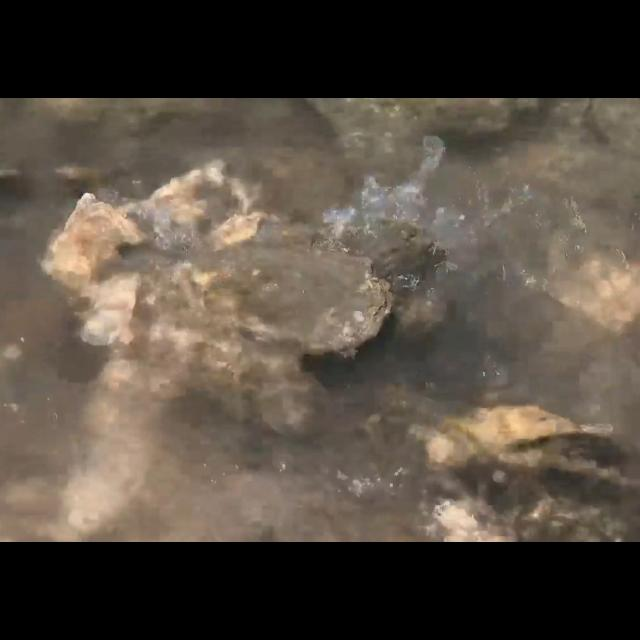Oyster-Closed: (147, 240, 395, 358), (144, 320, 326, 440), (308, 219, 448, 293), (48, 192, 142, 300)
Oyster-Open: (427, 405, 627, 485)
